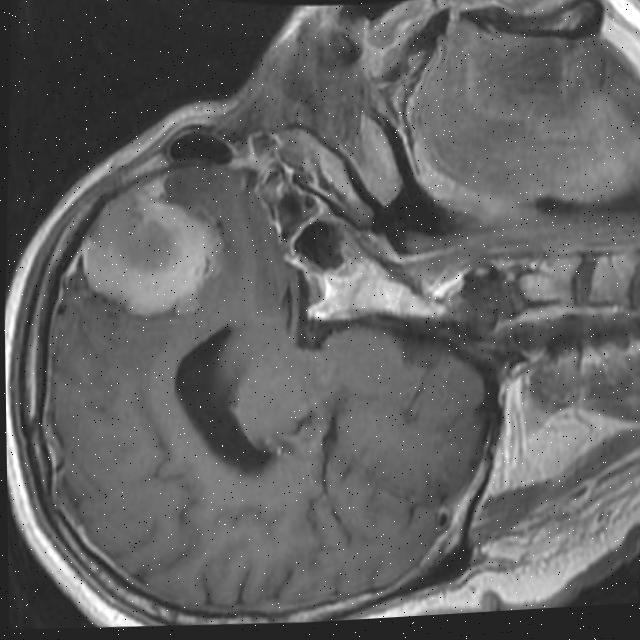Meningioma: (77, 180, 229, 325)
